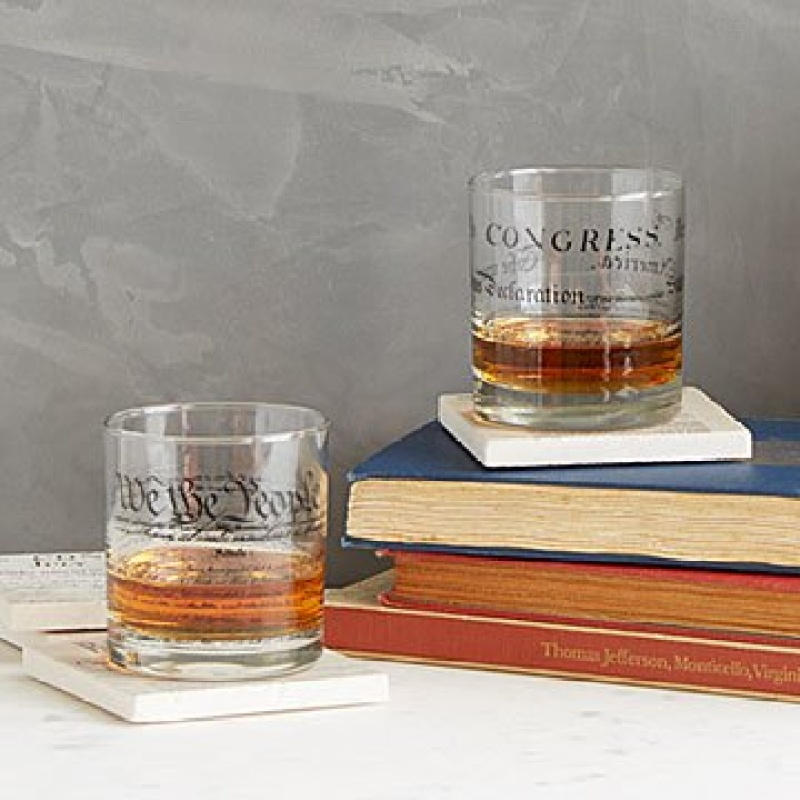whiskey: (98, 403, 333, 669), (470, 165, 682, 427)
